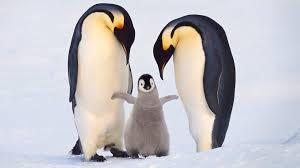emporer: (150, 9, 241, 161)
